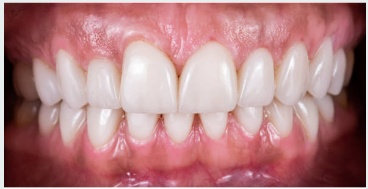Gingivitis: (88, 150, 282, 187)
